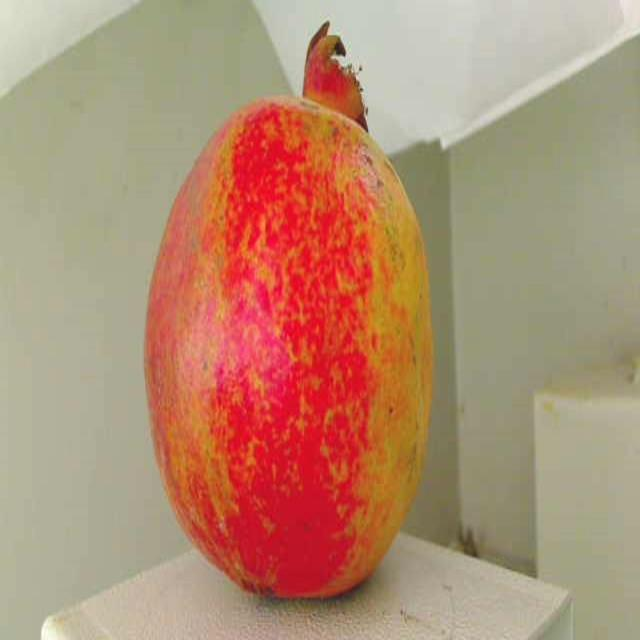pomegranate: (133, 42, 444, 608)
